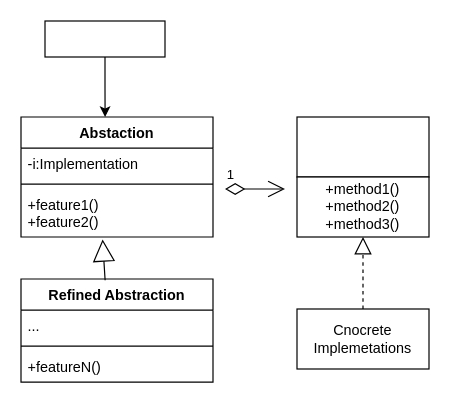
Image size: 450x407. Some labels were removed from this diagram. Here are the shapes that lost their labels. From the top down, the centre of each, then its label:
(x=104, y=38): Client
(x=362, y=146): «interface» Implementation
